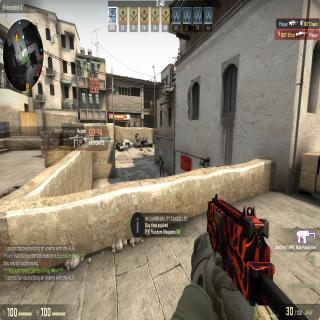CT-Body: (157, 154, 165, 178), (134, 132, 139, 144)
CT-Head: (157, 155, 162, 159)
